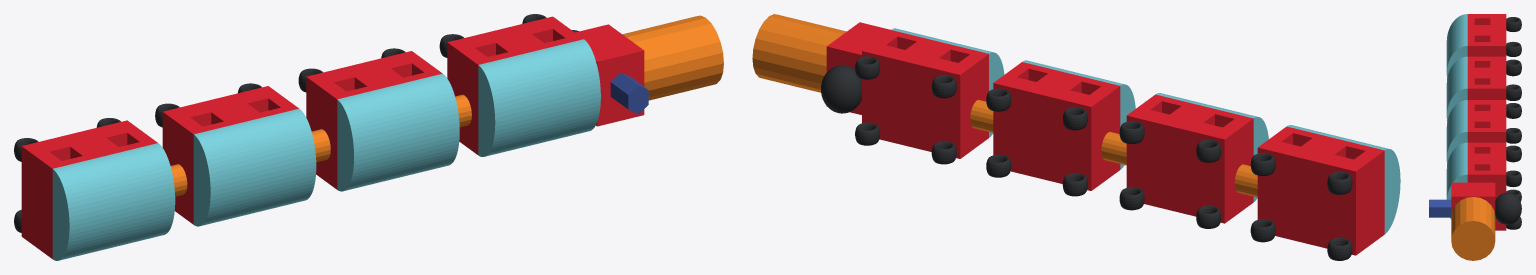
The model's file is tinker.obj.
The picture shows the model from 3 angles, left to right: view 1: azimuth 30°, elevation 25°; view 2: azimuth 150°, elevation 25°; view 3: azimuth 270°, elevation 25°; orthographic projection. The views are drawn at different scales.
Parts seen in each view (by area): view 1: group_0_7720667, group_0_15277357, group_0_16089887, group_0_2829873, group_0_3888547; view 2: group_0_15277357, group_0_2829873, group_0_16089887, group_0_7720667; view 3: group_0_15277357, group_0_7720667, group_0_2829873, group_0_16089887, group_0_3888547.
Boxes of the visible parts, left/top/right/bottom form: group_0_7720667: left=52, top=39, right=600, bottom=260; group_0_15277357: left=21, top=16, right=644, bottom=258; group_0_16089887: left=170, top=15, right=723, bottom=196; group_0_2829873: left=14, top=14, right=578, bottom=232; group_0_3888547: left=610, top=72, right=648, bottom=114; group_0_15277357: left=826, top=22, right=1384, bottom=255; group_0_2829873: left=821, top=56, right=1352, bottom=260; group_0_16089887: left=752, top=14, right=1257, bottom=197; group_0_7720667: left=891, top=28, right=1400, bottom=234; group_0_15277357: left=1451, top=14, right=1506, bottom=230; group_0_7720667: left=1446, top=14, right=1467, bottom=219; group_0_2829873: left=1495, top=17, right=1521, bottom=229; group_0_16089887: left=1451, top=197, right=1495, bottom=260; group_0_3888547: left=1429, top=199, right=1451, bottom=217.
Bounding box in the file's own units: 213 × 28 × 42.
